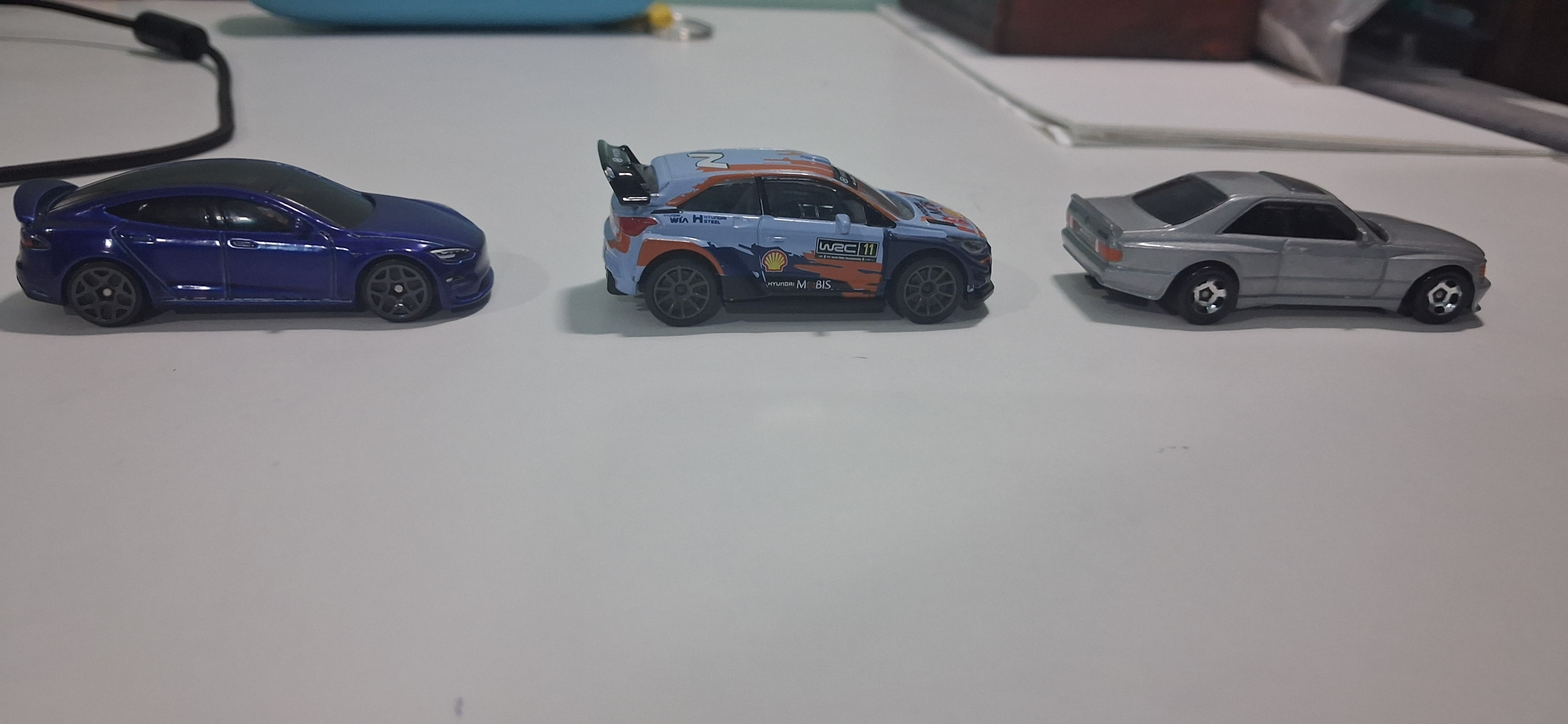Hyundai_I20_WRC: (567, 120, 1010, 353)
Mercedes_Benz_560_SEC_AMG: (1045, 127, 1510, 349)
Tesla_Model_S_Plaid: (0, 151, 501, 357)
